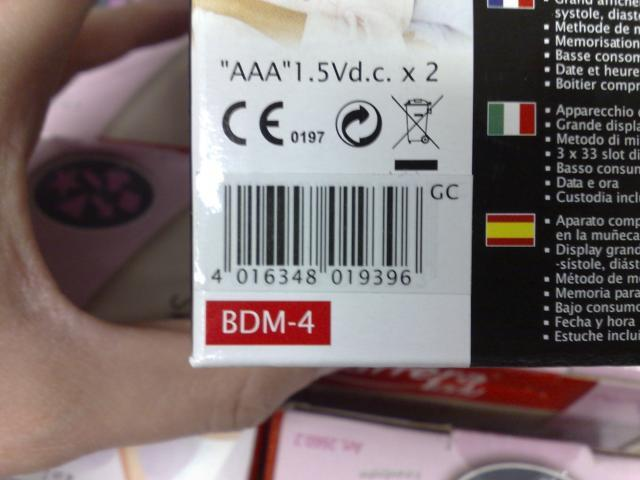Barcode: (201, 180, 429, 295)
